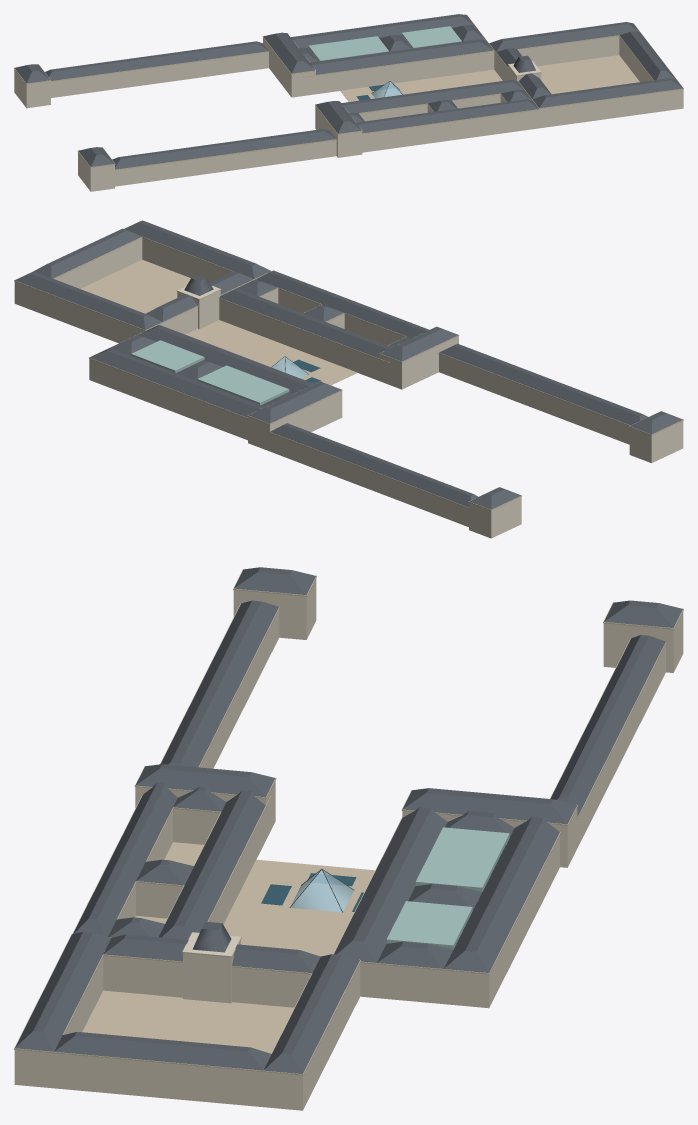
File: louvre-site.glb
The picture shows the model from 3 angles, top to bottom: view 1: azimuth 30°, elevation 25°; view 2: azimuth 150°, elevation 25°; view 3: azimuth 270°, elevation 25°; orthographic projection. The views are drawn at different scales.
Bounding box in the file's own units: 75.85 × 4.72 × 43.21.
